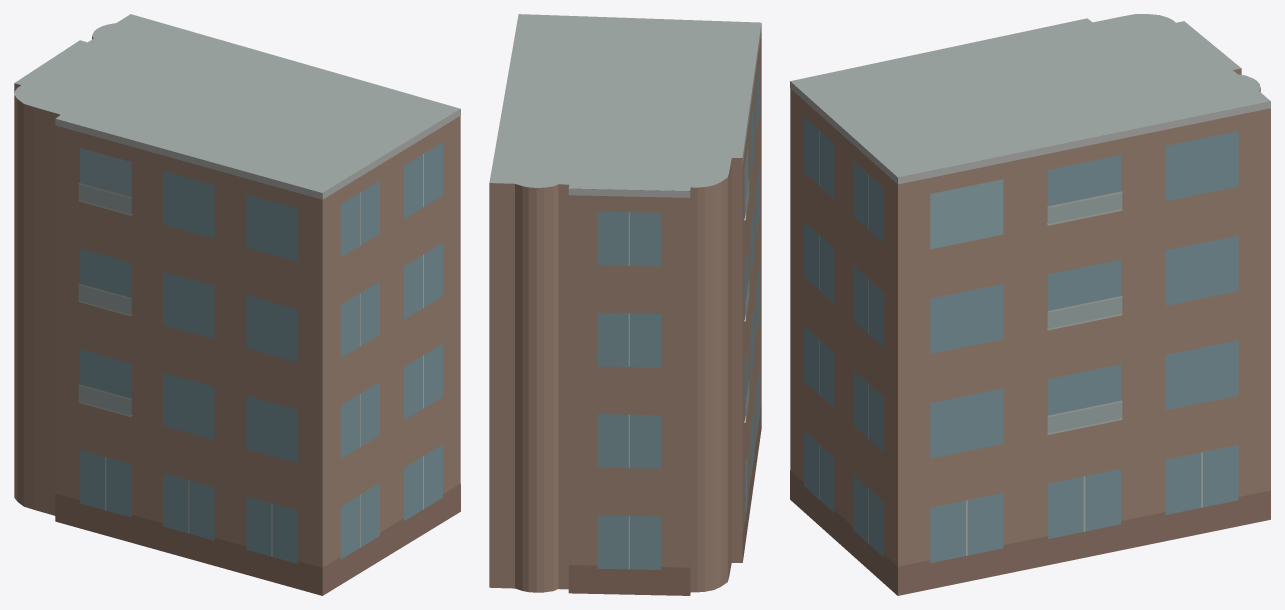
The model's file is survey-upis-32470908.glb.
3 views of the same model, side by side, from view 1: azimuth 30°, elevation 25°; view 2: azimuth 150°, elevation 25°; view 3: azimuth 270°, elevation 25° (orthographic). The views are drawn at different scales.
Parts seen in each view (by area): view 1: survey-upis-32470908.tmp; view 2: survey-upis-32470908.tmp; view 3: survey-upis-32470908.tmp.
Part boxes in pixels (<box>): survey-upis-32470908.tmp: <box>14,14,460,595</box>; survey-upis-32470908.tmp: <box>489,14,761,595</box>; survey-upis-32470908.tmp: <box>790,14,1270,595</box>.
Bounding box in the file's own units: 12.23 × 14.58 × 15.19.
